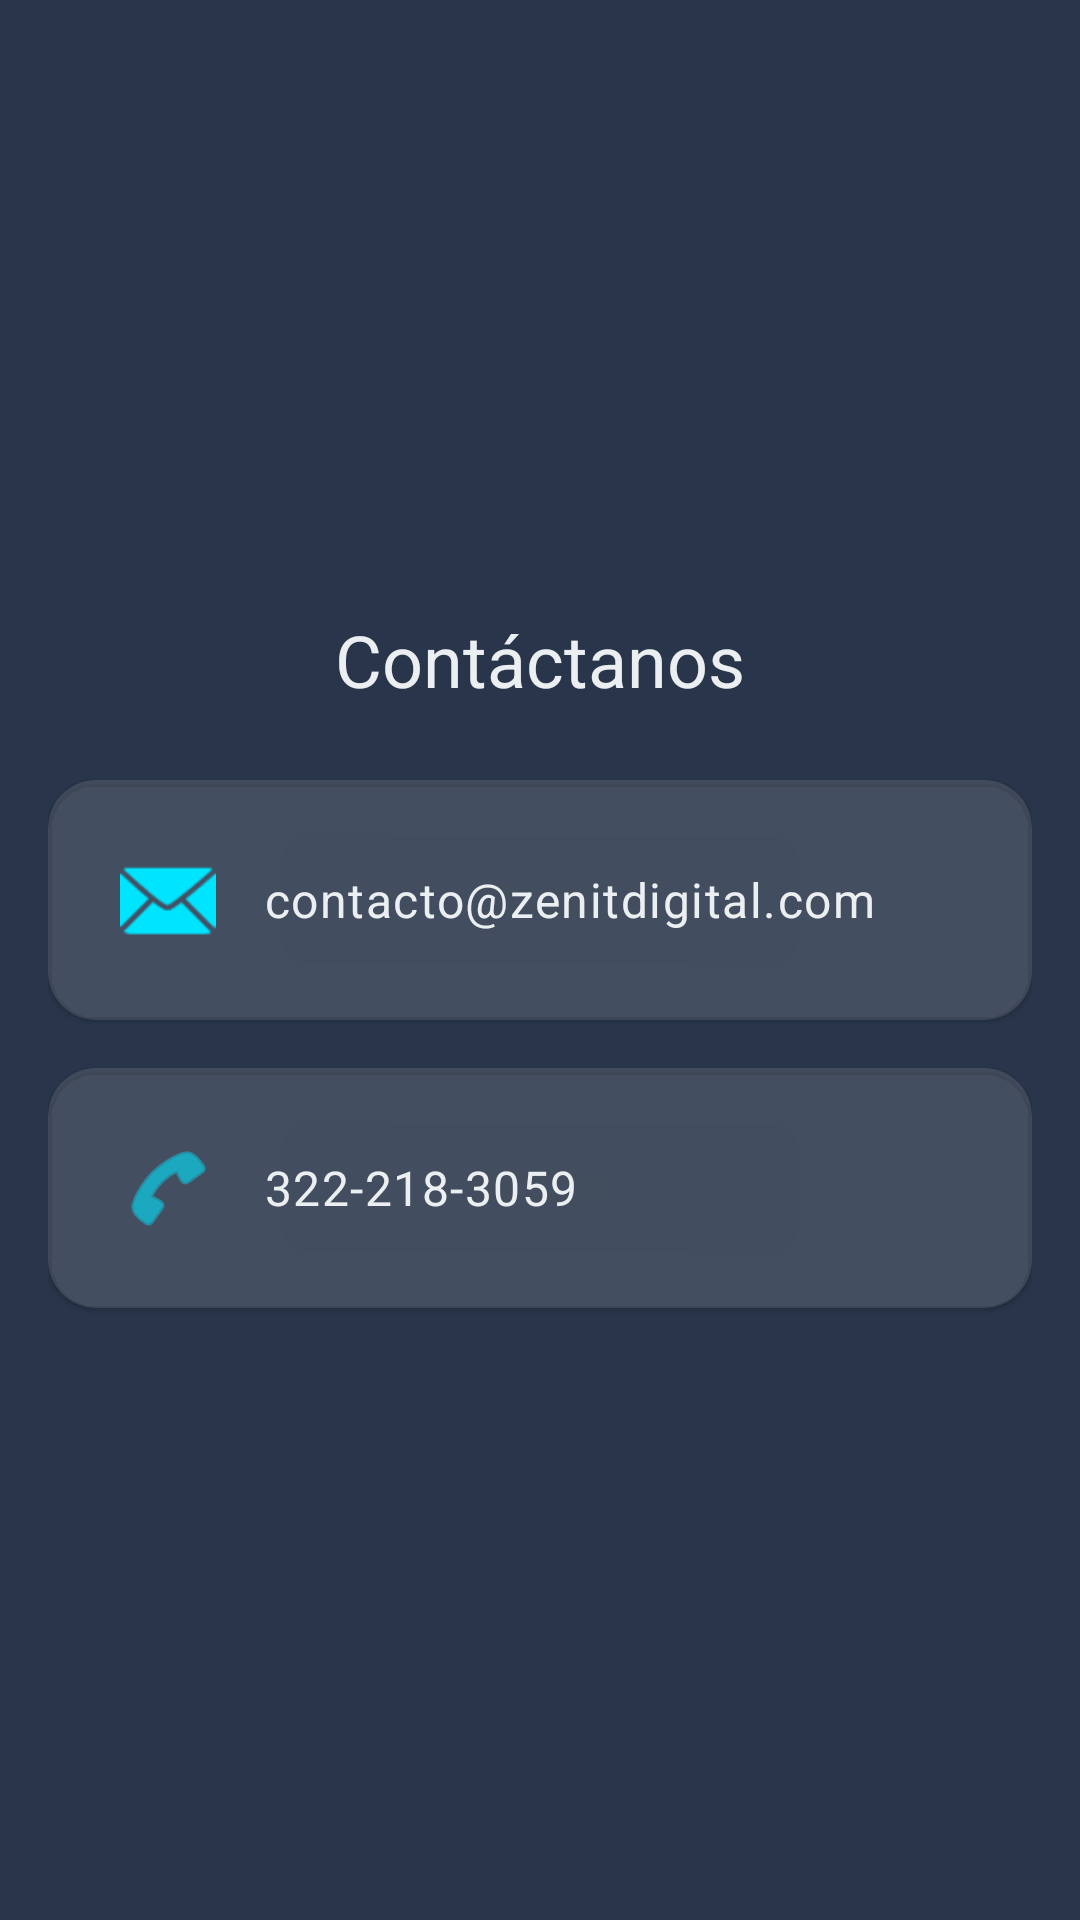

Where to tap for icons on this 1080×1920 app screen, as (x=x, y=y):
call: (x=168, y=1188)
email: (x=168, y=901)
